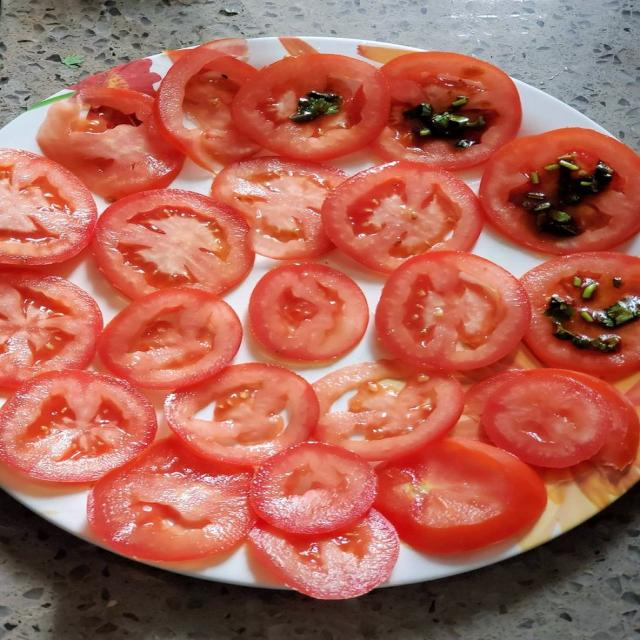sliced_tomato: (87, 439, 255, 561), (480, 128, 639, 254), (375, 438, 546, 554), (376, 251, 530, 370), (322, 162, 483, 272), (0, 370, 157, 482), (93, 190, 253, 298), (374, 52, 521, 169), (233, 54, 389, 160), (37, 86, 184, 198), (165, 363, 318, 465), (314, 361, 463, 461), (521, 252, 639, 376), (98, 288, 241, 388), (211, 156, 346, 259), (156, 42, 260, 170), (248, 510, 399, 598), (482, 369, 613, 467), (0, 270, 102, 386), (249, 263, 368, 361), (251, 443, 376, 534), (0, 149, 97, 265), (563, 370, 639, 470), (566, 372, 639, 470), (450, 370, 522, 443), (206, 38, 248, 61)
